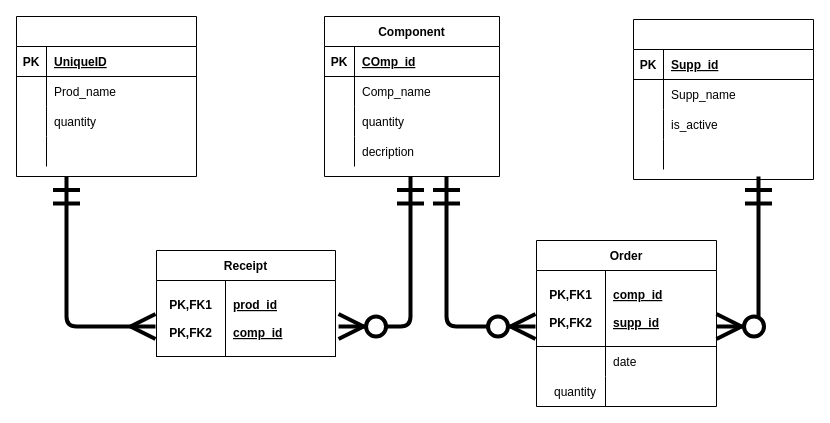
Image size: 830x423. Some labels were removed from this diagram. Here are the shapes that lost their labels. From the top down, the box of each, then its label:
(16, 16, 196, 176): Poduct
(632, 18, 814, 180): Supplier
